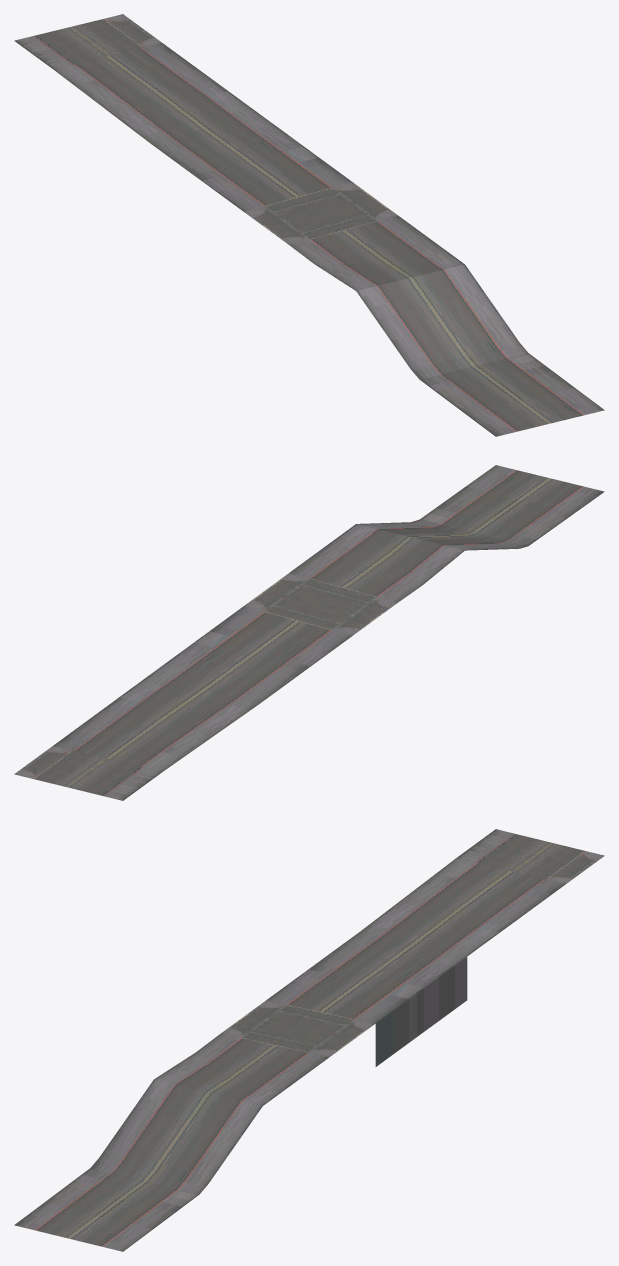
Rendered from lodd14_sfe.obj.
3 views of the same model, one above another, from view 1: azimuth 30°, elevation 25°; view 2: azimuth 150°, elevation 25°; view 3: azimuth 330°, elevation 25° (orthographic).
Visible parts, largest first — view 1: LODd14_sfe; view 2: LODd14_sfe; view 3: LODd14_sfe.
Part boxes in pixels (bbox=[...]): LODd14_sfe: bbox=[14, 14, 604, 436]; LODd14_sfe: bbox=[14, 465, 604, 800]; LODd14_sfe: bbox=[14, 829, 604, 1251].
Size of the model in its own units: 27.46 by 10.52 by 210.
Materials: 3 (3 with a texture image).
